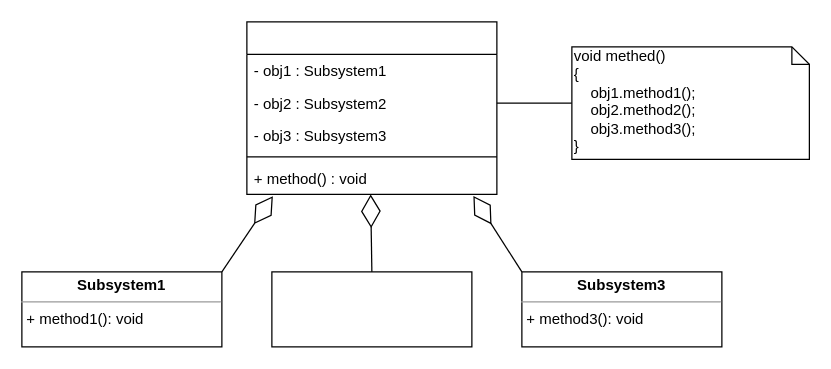
Some shapes in this 831 by 369 pixel diagram are drawn without their labels. Each missing label, with the box of its shape:
Facade: (246, 21, 497, 194)
Subsystem2 + method2(): void: (271, 271, 472, 347)
